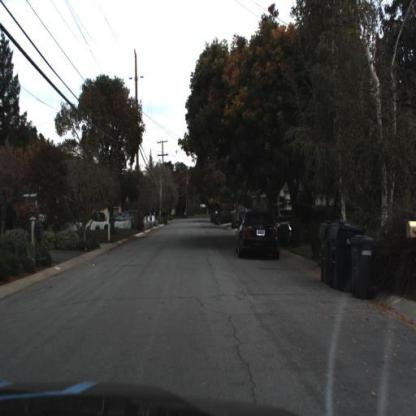car: (233, 207, 283, 265), (236, 211, 281, 265)
